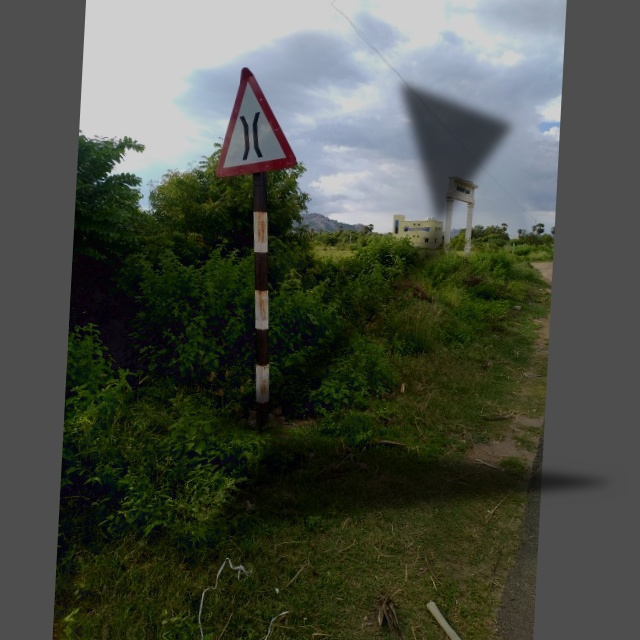Narrow_Bridge: (205, 60, 310, 179)
